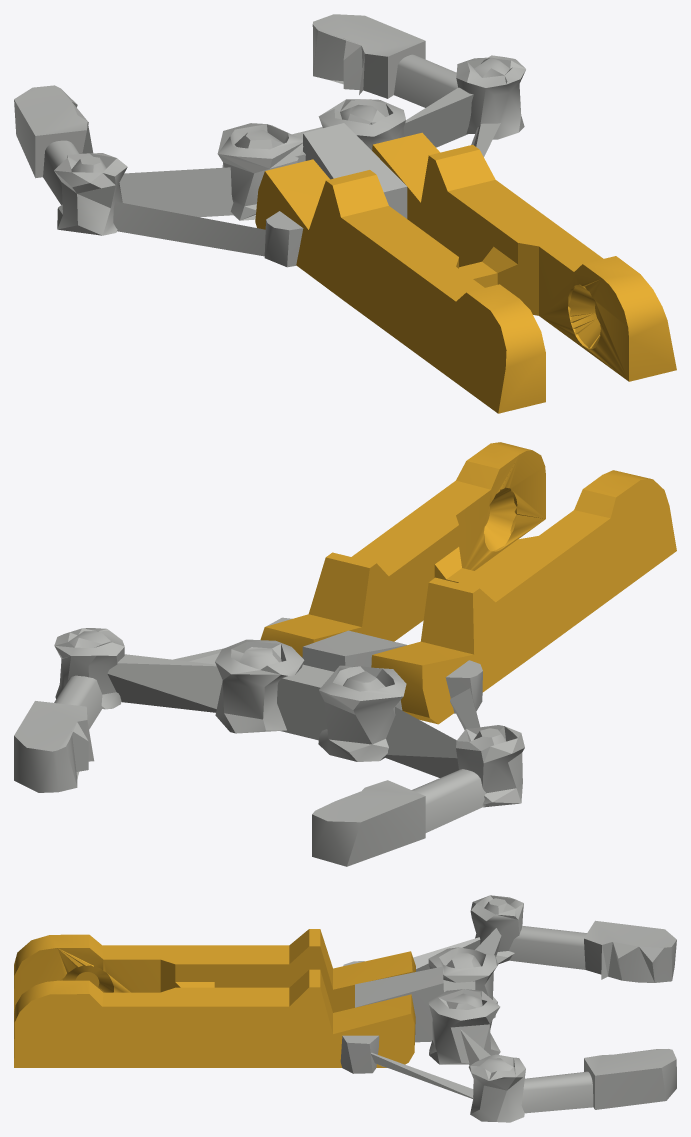
Rendered from inserter-arm-stack-hand-closed.glb.
3 renders of one model, top to bottom at view 1: azimuth 30°, elevation 25°; view 2: azimuth 150°, elevation 25°; view 3: azimuth 270°, elevation 25°, orthographic. The views are drawn at different scales.
Parts seen in each view (by area): view 1: body; view 2: body; view 3: body.
Part boxes in pixels (x1,y1,x2,y2): body: [14, 14, 676, 413]; body: [14, 442, 676, 866]; body: [14, 895, 676, 1122].
Size of the model in its own units: 0.6844 by 0.1294 by 1.04.
